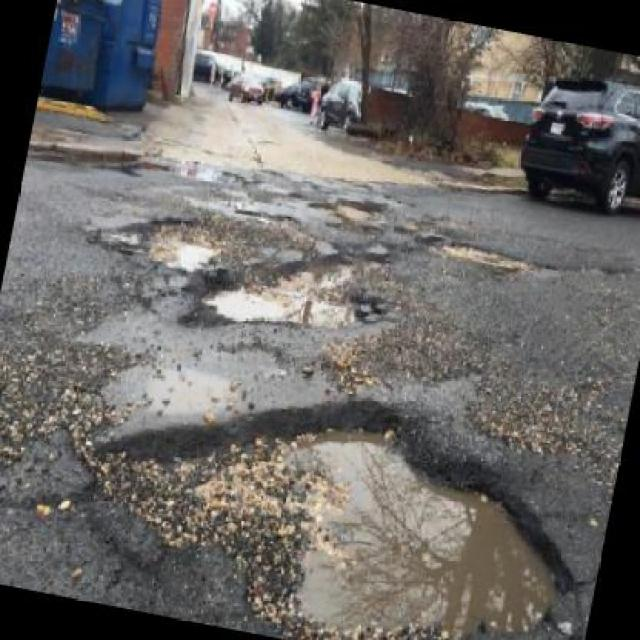pothole1: (59, 342, 606, 638), (182, 221, 402, 368), (112, 199, 235, 279), (443, 234, 548, 274), (331, 192, 378, 225)
